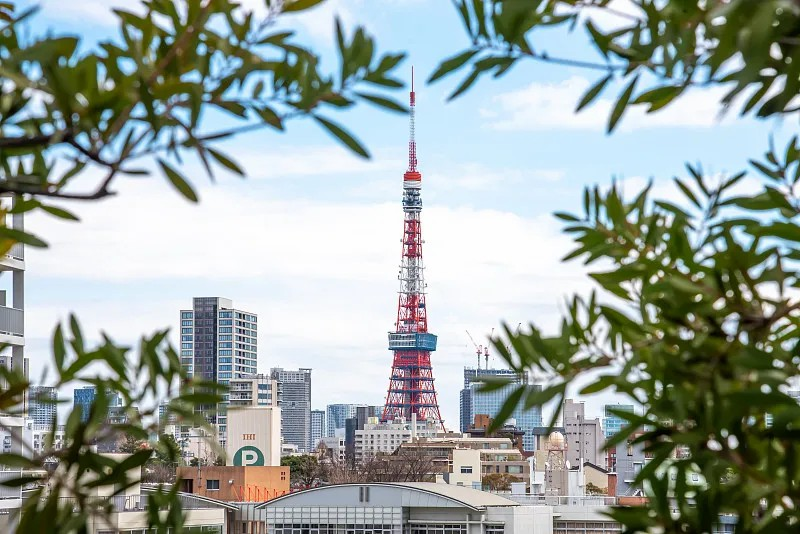Tokyo: (383, 64, 447, 435)
